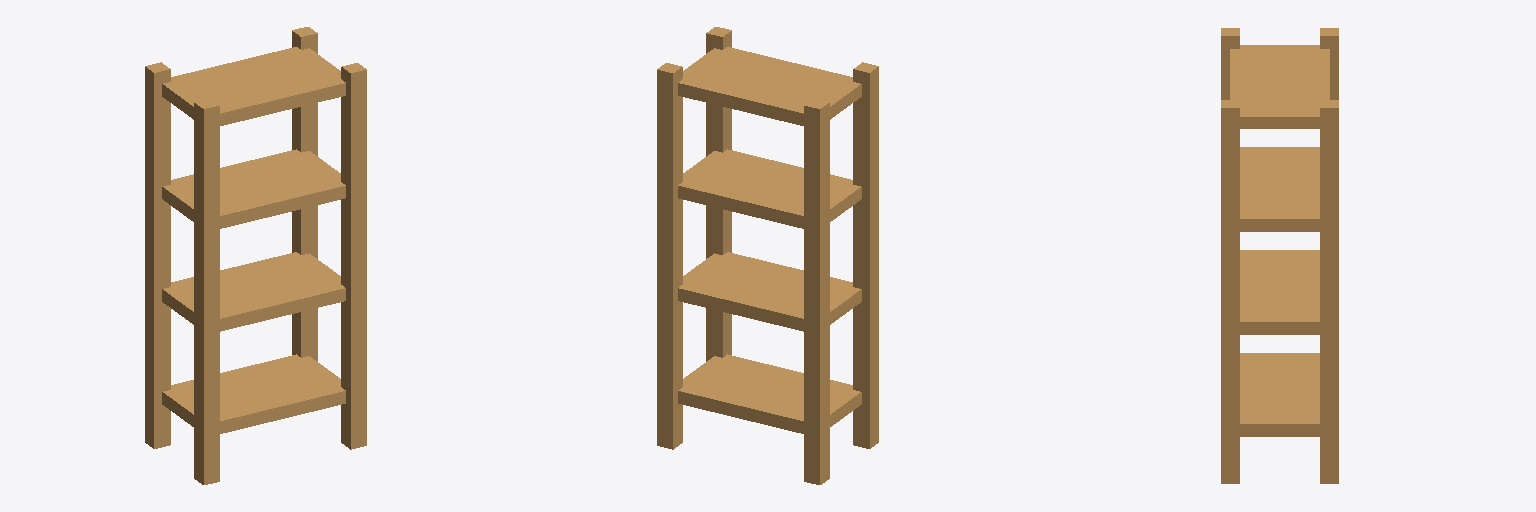
Rendered from bookcaseOpen.obj.
The picture shows the model from 3 angles: view 1: azimuth 30°, elevation 25°; view 2: azimuth 150°, elevation 25°; view 3: azimuth 270°, elevation 25°; orthographic projection.
Parts seen in each view (by area): view 1: bookcaseOpen; view 2: bookcaseOpen; view 3: bookcaseOpen.
Boxes of the visible parts, box(x1,y1,x2,y2) form: bookcaseOpen: box(145, 27, 366, 484); bookcaseOpen: box(657, 27, 878, 484); bookcaseOpen: box(1221, 28, 1338, 483).
Size of the model in its own units: 4 by 8.8 by 2.5.